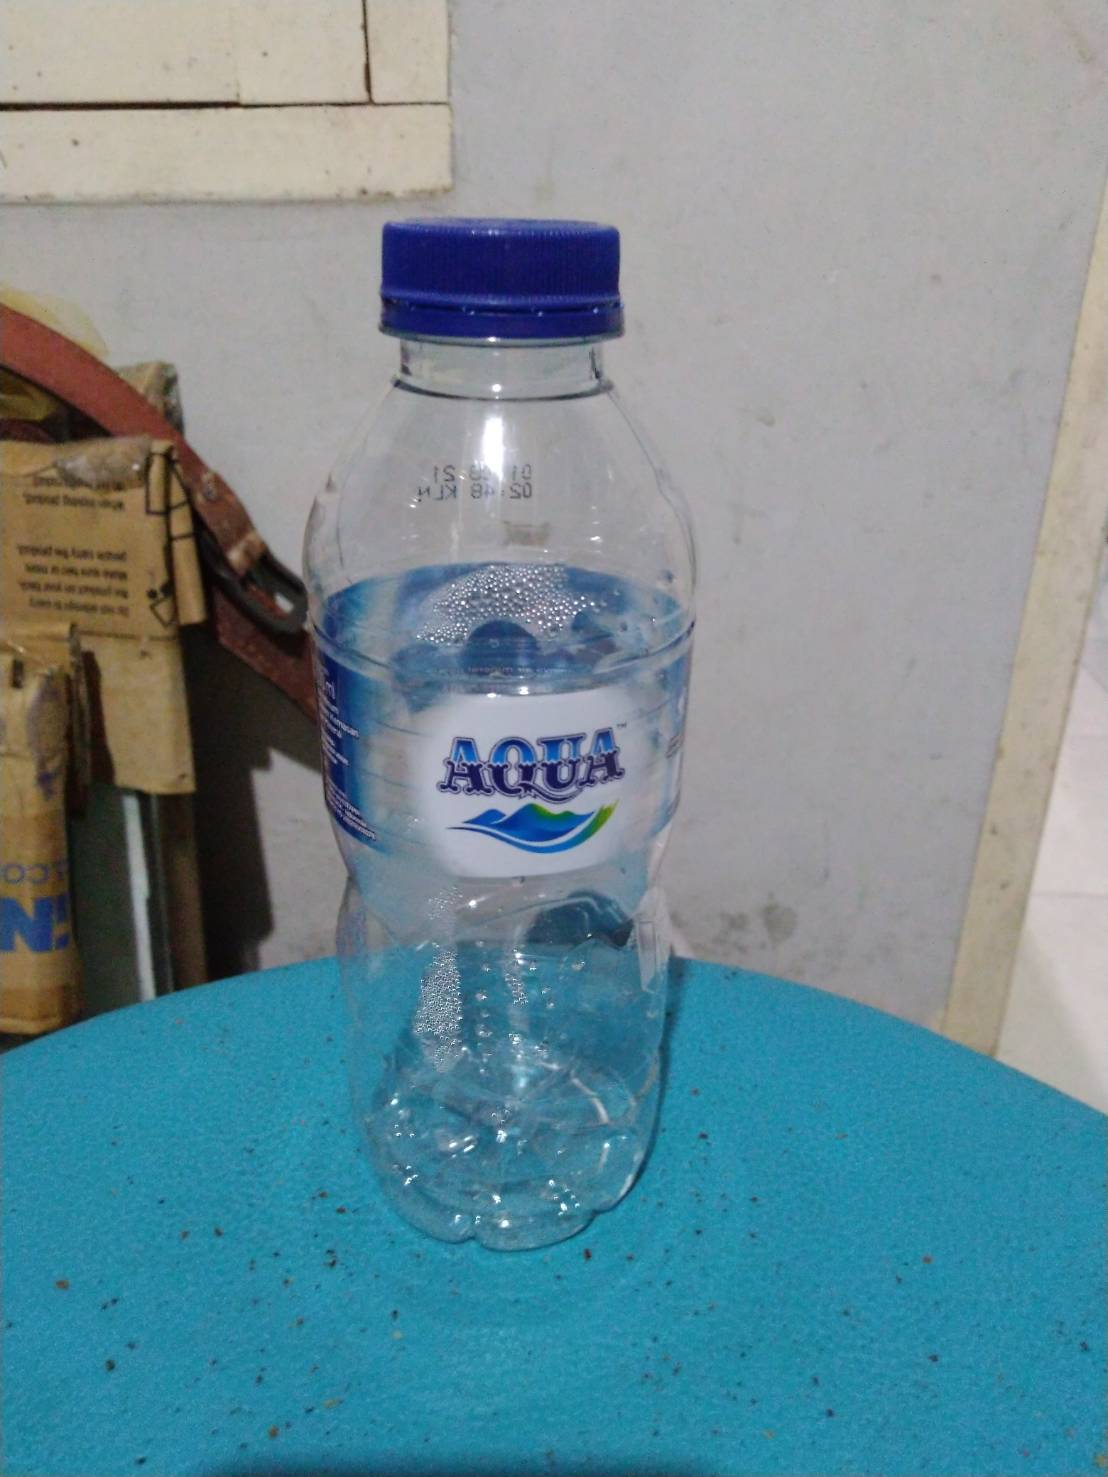HDPE: (377, 216, 627, 335)
PET: (308, 348, 701, 1255)
